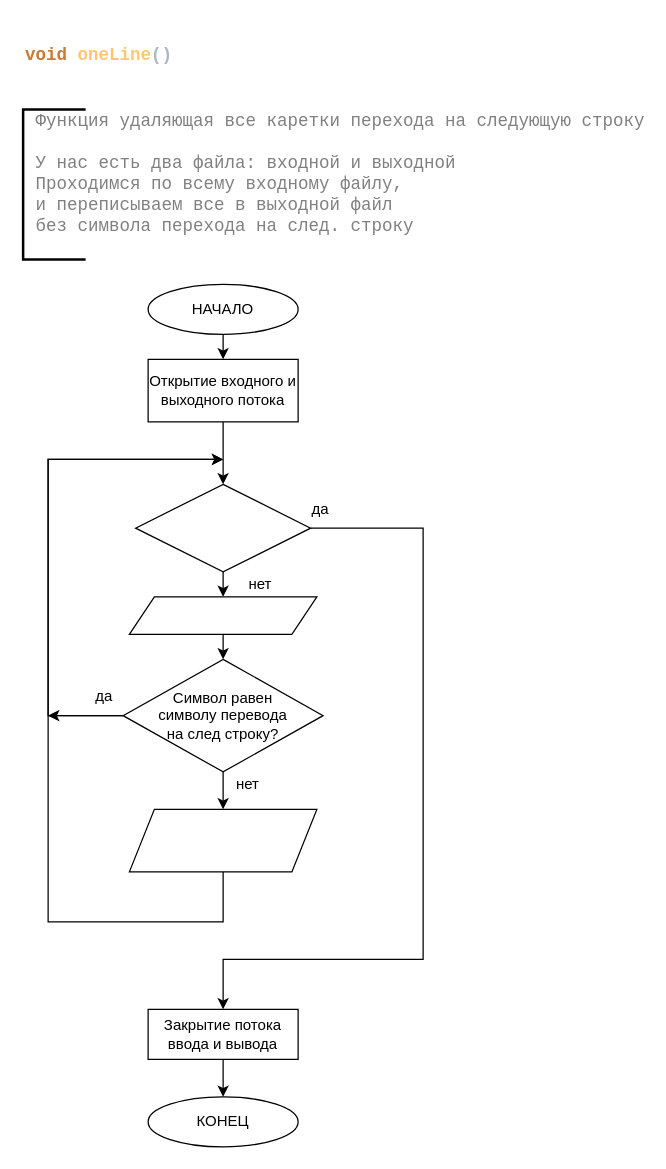
Some shapes in this 666 by 1169 pixel diagram are drawn without their labels. Each missing label, with the box of its shape:
Достигнут конец файла?: (134, 483, 311, 572)
Запись символа в выходной файл: (128, 808, 317, 872)
Считываем символ: (128, 596, 317, 634)
